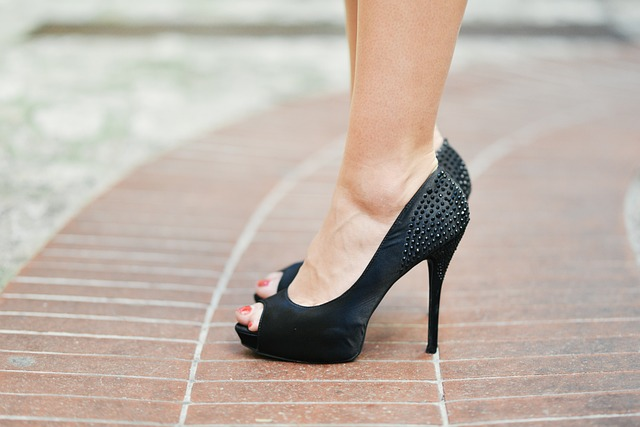Footwear: (225, 122, 527, 377)
